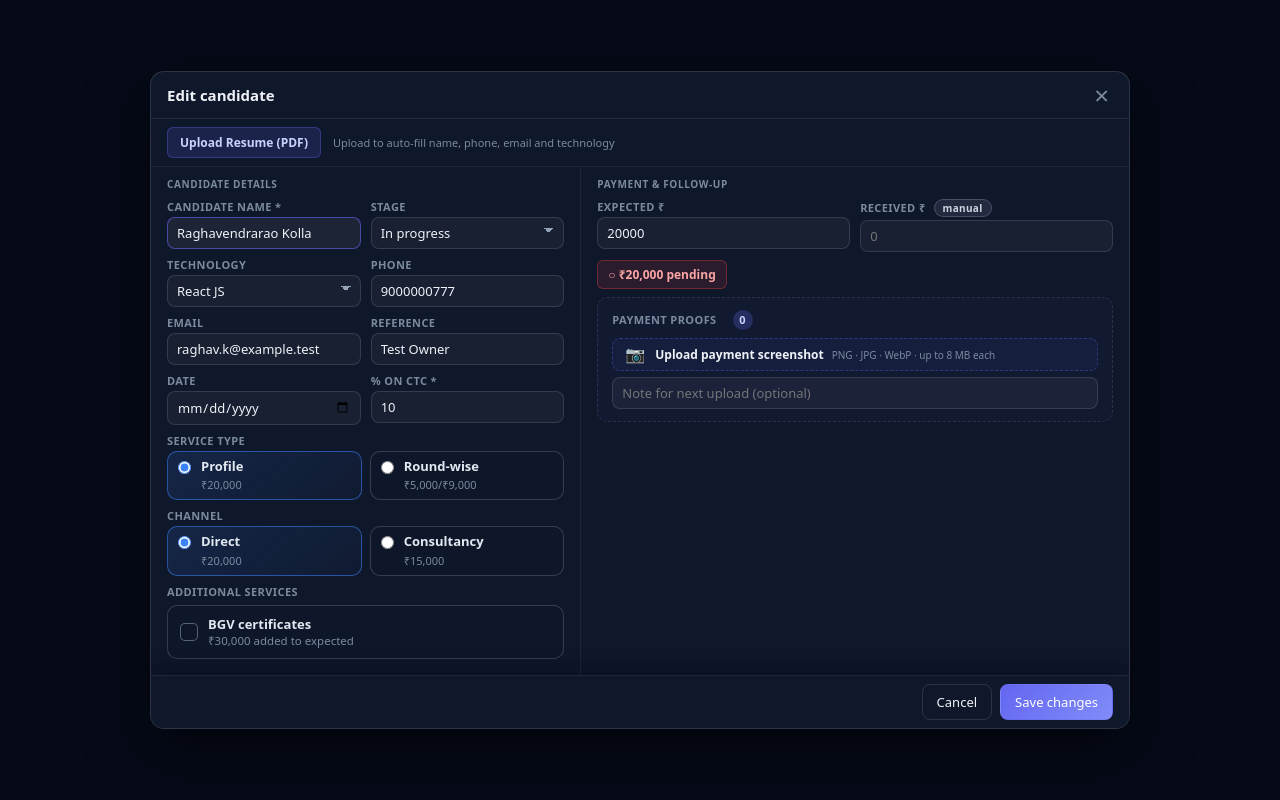
Test: after Save and reopen, the complete values stay; a save never cuts them short › a cut-short phone typed in the form is not saved
Replace the text in the field labelled "Phone" with "900000077": (468, 291) [371,275,564,307]
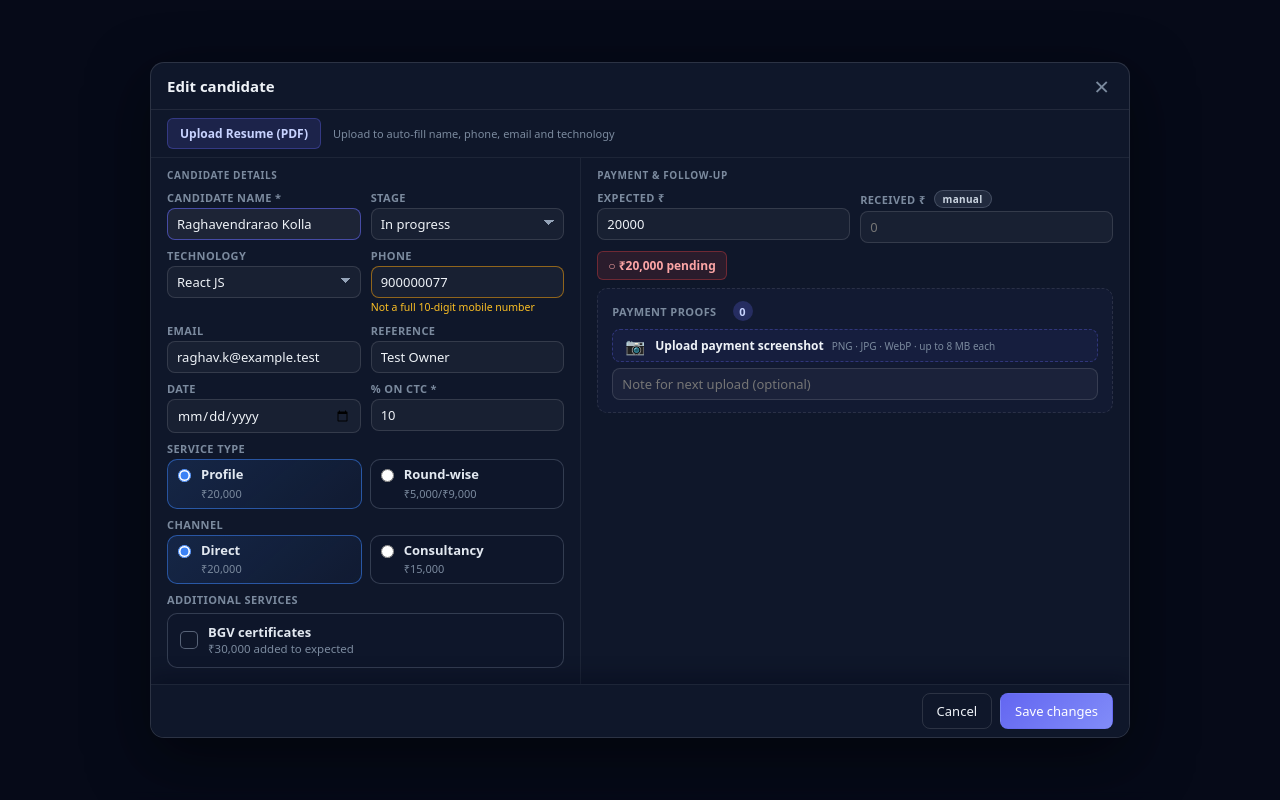
Click the button "Save changes": click(1057, 710) [1000,692,1113,728]
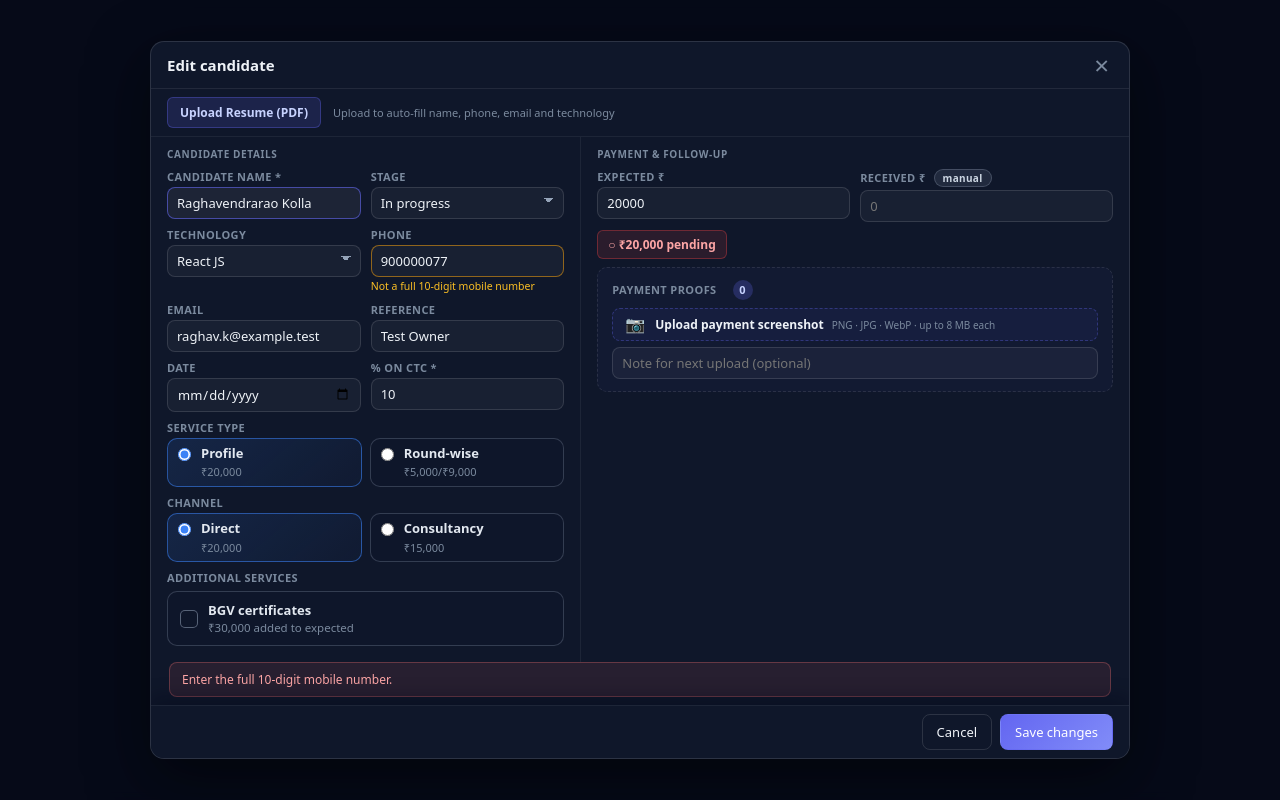
Expected: the text "Enter the full 10-digit mobile number." is shown, [169,662,1111,697]
